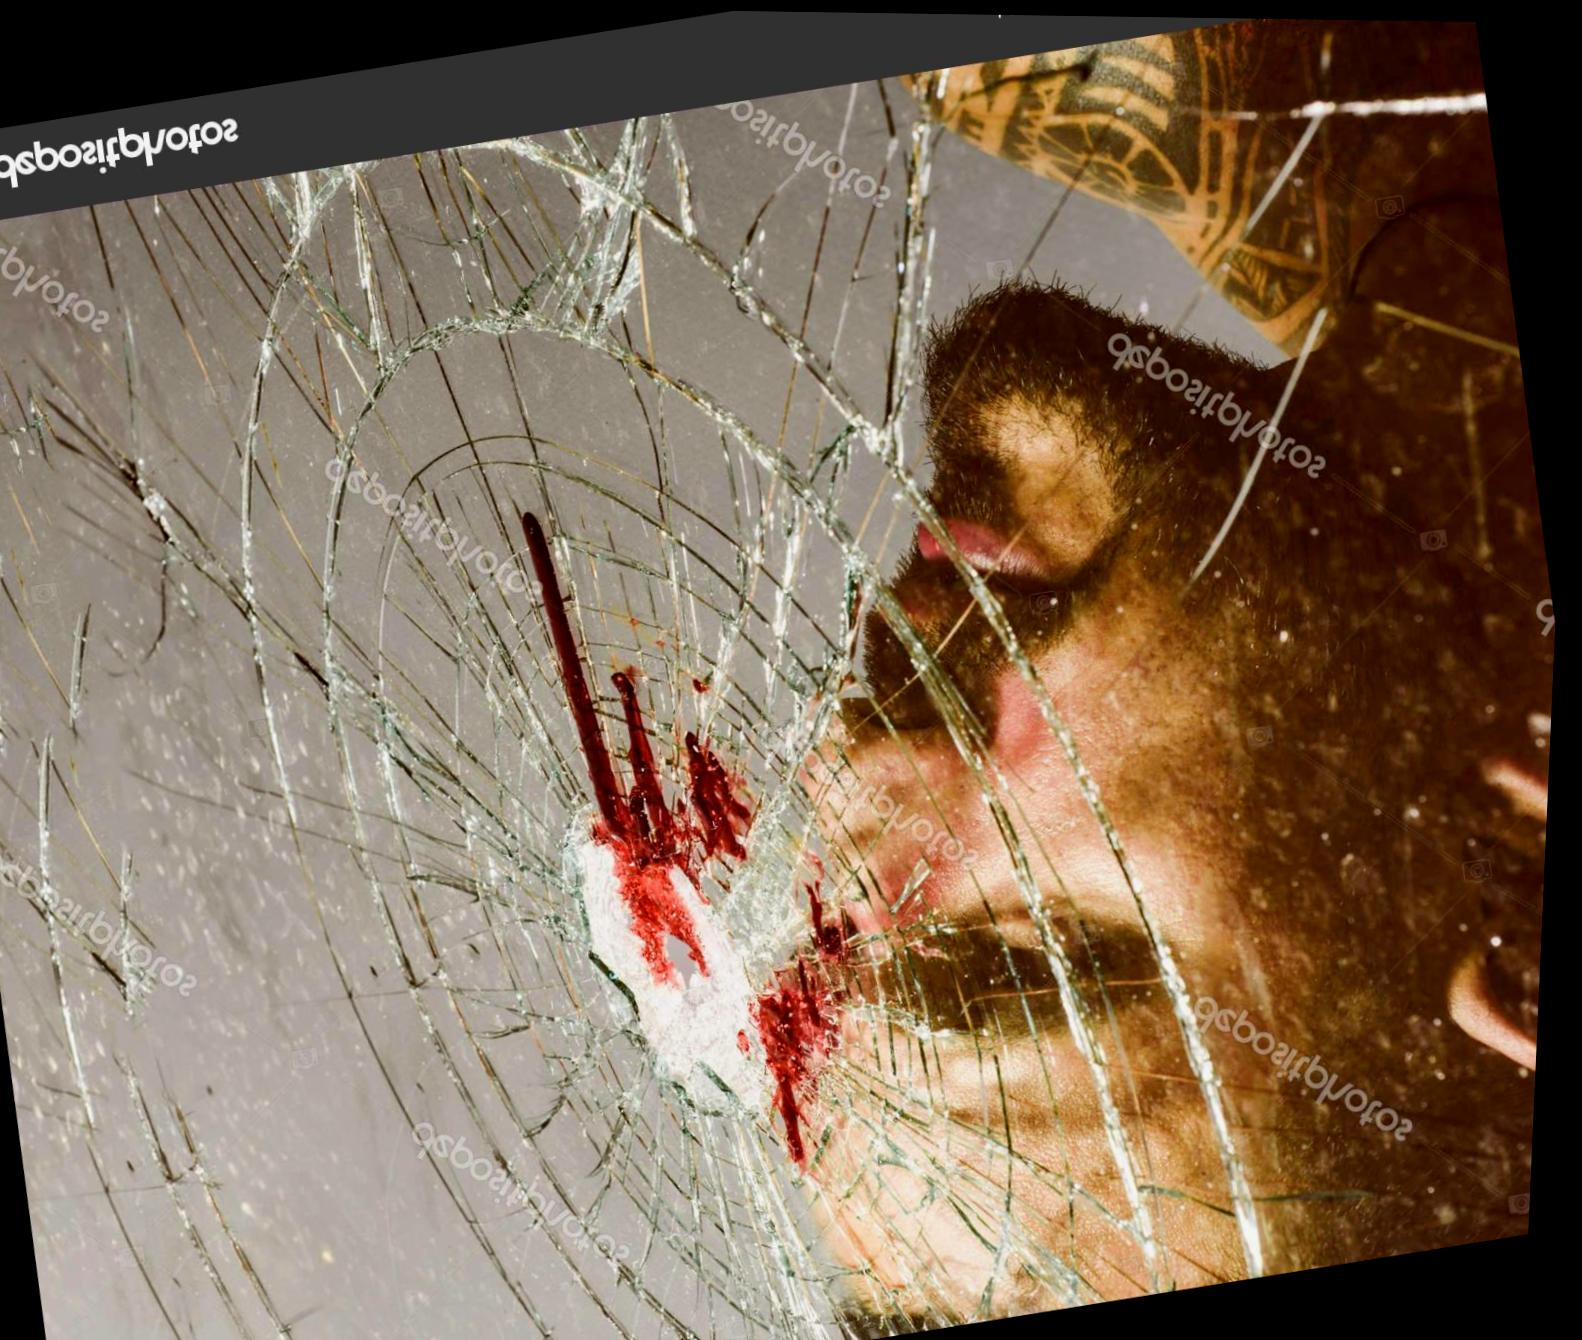Fire: (526, 510, 764, 989), (758, 953, 859, 1175), (811, 881, 860, 962)
